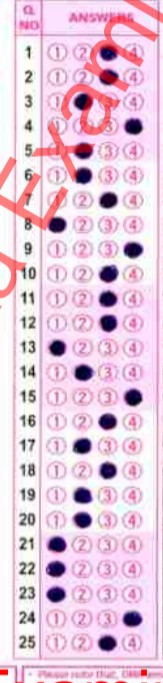filled circles: (99, 265, 119, 283), (99, 461, 117, 479), (124, 388, 142, 405), (123, 610, 142, 626), (98, 635, 116, 651), (99, 192, 117, 208), (74, 364, 92, 380), (99, 315, 117, 331), (73, 487, 91, 503), (46, 587, 65, 602), (46, 561, 65, 576), (99, 413, 116, 429), (74, 93, 91, 109), (49, 216, 66, 232), (75, 142, 92, 158), (125, 118, 142, 134), (73, 512, 91, 527), (124, 242, 142, 257), (73, 438, 91, 453), (48, 536, 66, 551), (99, 69, 118, 83), (99, 291, 116, 306), (49, 340, 65, 355), (75, 168, 91, 183), (100, 46, 116, 60)
